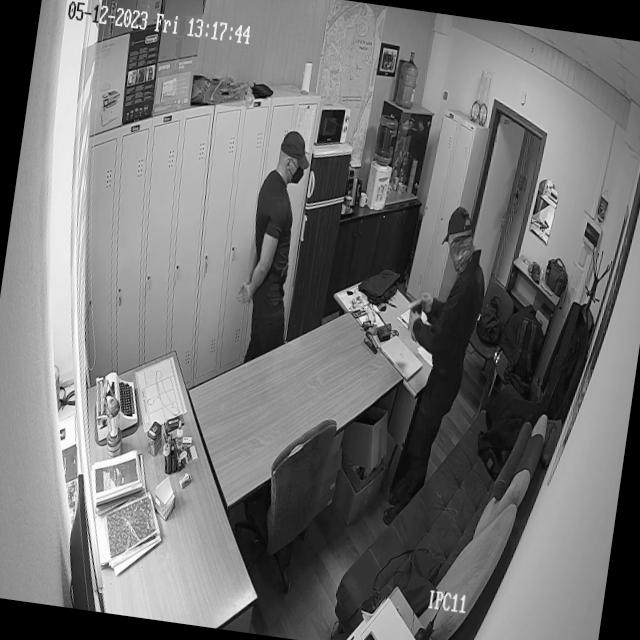person: (378, 203, 497, 538), (227, 124, 316, 376)
